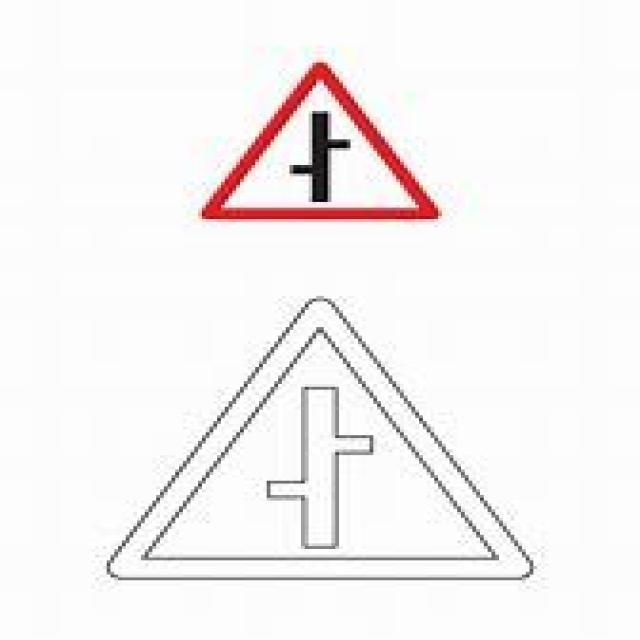staggered intersection: (199, 56, 448, 228)
